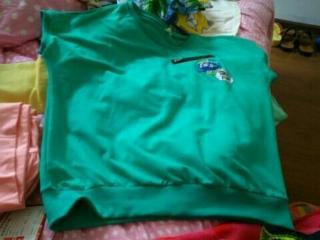short sleeve top: (37, 1, 295, 232)
